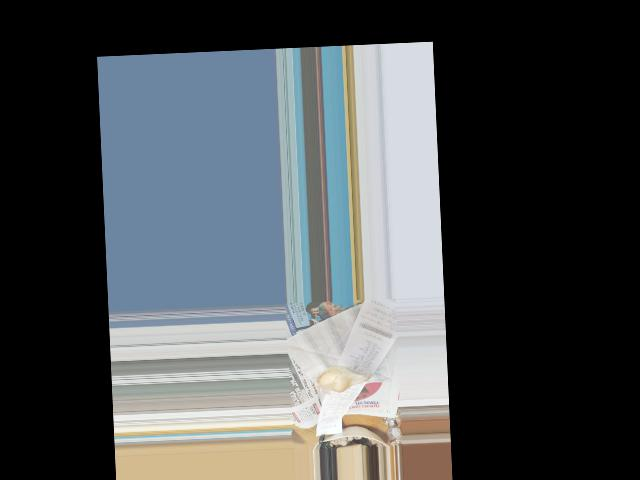onion: (318, 366, 360, 391)
